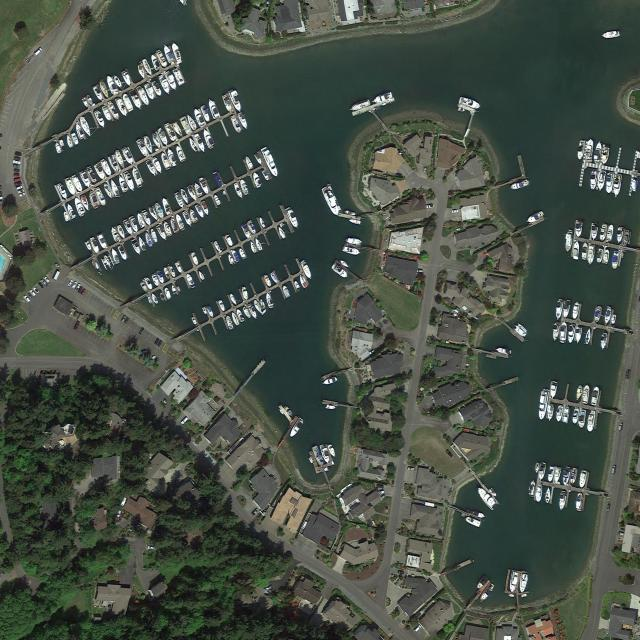ship: (321, 185, 341, 219), (261, 146, 280, 180), (475, 486, 498, 512), (536, 388, 550, 422), (228, 88, 243, 114), (284, 206, 300, 230), (478, 582, 495, 604), (459, 96, 481, 112), (289, 417, 305, 439), (136, 85, 151, 108), (164, 70, 179, 93), (348, 98, 371, 113), (79, 115, 93, 139), (331, 262, 349, 280), (107, 100, 121, 123), (158, 74, 172, 97), (170, 41, 184, 64), (129, 89, 143, 112), (206, 98, 220, 120), (115, 96, 129, 118), (371, 91, 393, 105), (202, 127, 215, 150), (131, 166, 144, 189), (123, 170, 136, 193), (312, 444, 325, 467), (73, 196, 86, 218), (164, 121, 177, 143), (94, 186, 107, 208), (105, 74, 118, 96), (525, 210, 544, 225), (300, 260, 314, 280), (563, 229, 574, 254), (593, 140, 604, 165), (94, 109, 107, 130), (162, 43, 175, 64), (155, 48, 168, 69), (194, 133, 206, 155), (114, 148, 126, 170), (518, 570, 529, 594), (319, 443, 331, 465), (71, 174, 84, 194), (107, 153, 120, 173), (122, 146, 135, 166), (136, 138, 149, 158), (121, 92, 134, 112), (612, 173, 622, 199), (514, 322, 529, 339), (508, 570, 519, 593), (193, 107, 205, 128), (141, 57, 153, 78), (98, 79, 110, 100), (116, 174, 129, 193), (510, 179, 529, 192), (237, 111, 249, 131), (230, 115, 242, 135), (186, 112, 198, 132), (65, 177, 77, 197), (100, 158, 112, 178), (605, 171, 615, 195), (589, 168, 599, 192), (101, 254, 115, 271), (554, 298, 564, 321), (559, 321, 569, 344), (586, 410, 596, 433), (221, 94, 233, 113), (159, 151, 171, 170), (181, 210, 193, 229), (198, 176, 210, 195), (143, 82, 155, 101), (172, 120, 184, 139), (79, 170, 91, 189), (150, 132, 162, 151), (157, 128, 169, 147), (86, 166, 98, 185), (342, 245, 361, 257), (585, 138, 594, 163), (475, 575, 489, 591), (464, 515, 481, 528), (88, 190, 99, 210), (557, 490, 567, 512), (586, 244, 596, 266), (174, 144, 186, 162), (94, 163, 106, 181), (145, 159, 157, 177), (151, 156, 163, 174), (551, 321, 561, 342), (131, 238, 142, 257), (166, 148, 177, 167), (156, 224, 167, 243), (80, 194, 91, 213), (57, 182, 68, 201), (143, 135, 154, 154), (109, 178, 120, 197), (597, 170, 606, 193), (186, 185, 198, 202), (151, 80, 163, 97), (121, 71, 133, 88), (601, 146, 611, 166), (123, 219, 134, 237), (129, 215, 140, 233), (154, 202, 165, 220), (161, 197, 172, 215), (174, 191, 185, 209), (169, 216, 180, 234), (162, 220, 173, 238), (212, 171, 223, 189), (233, 182, 244, 200), (239, 178, 250, 196), (200, 105, 211, 123), (247, 303, 258, 321), (567, 323, 576, 345), (90, 236, 100, 255), (150, 53, 160, 72), (345, 236, 364, 246), (602, 30, 621, 40), (611, 250, 620, 271), (572, 240, 581, 261), (577, 140, 586, 161), (148, 205, 159, 222), (137, 235, 148, 252), (188, 136, 199, 153), (195, 203, 206, 220), (74, 123, 85, 140), (93, 85, 104, 102), (101, 105, 112, 122), (264, 292, 275, 309), (111, 247, 121, 265), (142, 209, 152, 227), (252, 171, 262, 189), (604, 306, 613, 326), (562, 404, 571, 424), (579, 469, 588, 489), (575, 492, 584, 512), (562, 467, 571, 487), (538, 462, 547, 482), (591, 386, 600, 406), (188, 208, 199, 224), (185, 273, 196, 289), (599, 332, 608, 351), (599, 223, 608, 242), (555, 404, 564, 423), (546, 403, 555, 422), (528, 479, 537, 498), (535, 484, 544, 503), (118, 245, 128, 262), (97, 233, 107, 250), (144, 231, 154, 248), (180, 188, 190, 205), (175, 213, 185, 230), (66, 203, 76, 220), (103, 183, 113, 200), (137, 64, 147, 81), (471, 509, 486, 520), (606, 224, 615, 242), (116, 224, 126, 240), (190, 251, 200, 267), (110, 226, 120, 242), (136, 212, 146, 228), (201, 201, 211, 217), (247, 220, 257, 236), (241, 223, 251, 239), (113, 74, 123, 90), (322, 376, 338, 386), (327, 443, 337, 459), (578, 409, 586, 429), (582, 384, 590, 404), (283, 404, 294, 418), (622, 230, 631, 247), (595, 248, 604, 265), (563, 300, 571, 319), (550, 381, 558, 400), (193, 182, 203, 197), (240, 286, 250, 301), (230, 311, 240, 326), (235, 308, 245, 323), (244, 155, 254, 170), (298, 274, 308, 289), (150, 228, 159, 244), (495, 346, 511, 355), (575, 327, 583, 345), (594, 307, 603, 323), (616, 226, 624, 244), (572, 407, 580, 425), (591, 223, 599, 241), (581, 242, 589, 260), (138, 280, 148, 294), (572, 303, 580, 320), (570, 468, 578, 485), (547, 466, 555, 483), (554, 467, 562, 484), (575, 385, 583, 402), (575, 220, 583, 237), (144, 277, 153, 292), (225, 315, 234, 330), (65, 134, 74, 149), (151, 273, 160, 287), (217, 299, 226, 313), (225, 234, 234, 248), (254, 237, 263, 251), (231, 249, 240, 263), (242, 306, 251, 320), (253, 299, 262, 313), (263, 274, 272, 288), (157, 270, 165, 285), (544, 488, 552, 503), (585, 328, 592, 345), (163, 287, 172, 300), (229, 293, 238, 306), (261, 169, 270, 182), (254, 153, 263, 166), (277, 226, 286, 239), (282, 285, 291, 298), (270, 272, 279, 285), (168, 265, 176, 279), (249, 240, 257, 254), (71, 132, 79, 146), (339, 259, 350, 269), (603, 249, 610, 264), (175, 261, 183, 274), (163, 266, 171, 279), (151, 292, 159, 305), (206, 305, 214, 318), (258, 216, 266, 229), (54, 141, 62, 154), (86, 94, 94, 107), (348, 218, 361, 226), (488, 487, 497, 498), (213, 194, 221, 206), (238, 248, 246, 260), (62, 210, 70, 222), (259, 298, 267, 310), (82, 97, 90, 108), (293, 280, 301, 291), (214, 241, 221, 253), (343, 210, 356, 216), (85, 241, 92, 252), (170, 284, 177, 295), (198, 270, 205, 281), (227, 254, 234, 265), (534, 462, 540, 474), (159, 292, 166, 302), (631, 179, 636, 192), (457, 106, 466, 113), (324, 466, 334, 472), (326, 404, 336, 410), (611, 314, 616, 325), (59, 139, 65, 148), (201, 307, 207, 315), (308, 456, 314, 464), (192, 317, 197, 325), (148, 297, 153, 305), (520, 593, 527, 598), (176, 286, 181, 293), (636, 151, 640, 159), (508, 593, 514, 598), (223, 190, 227, 196), (621, 252, 624, 259), (280, 223, 285, 227)
small-vehicle: (34, 47, 42, 56), (414, 624, 422, 633), (73, 320, 80, 330), (41, 278, 48, 288), (251, 508, 259, 516), (265, 584, 273, 592), (23, 295, 31, 303), (301, 521, 308, 530), (181, 416, 188, 425), (29, 289, 36, 298), (14, 180, 22, 187), (37, 281, 44, 289), (446, 449, 453, 457), (75, 283, 81, 292), (71, 281, 77, 290), (157, 339, 163, 348), (15, 185, 23, 191), (18, 192, 26, 198), (27, 292, 33, 300), (77, 286, 83, 294), (80, 288, 86, 296), (138, 327, 144, 335), (140, 349, 148, 355), (44, 276, 50, 284), (67, 279, 73, 287), (611, 465, 616, 474), (12, 160, 21, 165), (425, 204, 434, 209), (606, 503, 611, 512), (154, 337, 159, 346), (380, 494, 387, 500), (124, 317, 130, 324), (33, 287, 39, 294), (618, 423, 623, 431), (13, 177, 21, 182), (147, 545, 155, 550), (407, 466, 415, 471), (117, 510, 122, 518), (144, 352, 152, 357), (149, 355, 157, 360), (151, 358, 159, 363), (369, 349, 375, 355), (17, 189, 24, 194), (15, 151, 22, 156), (378, 490, 385, 495), (377, 484, 384, 489), (121, 315, 126, 322), (423, 165, 427, 173), (14, 156, 21, 160), (13, 168, 20, 172), (118, 516, 122, 523), (398, 570, 405, 574), (416, 269, 423, 273), (13, 164, 19, 168), (452, 210, 459, 213), (14, 173, 20, 176)
